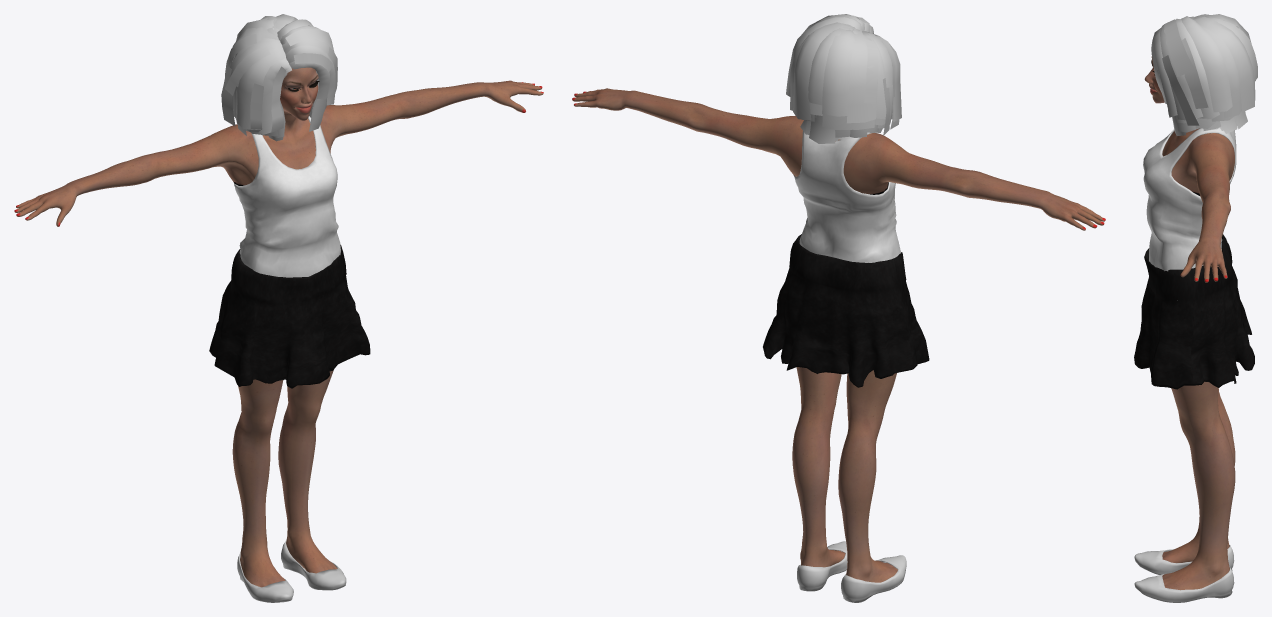
The model's file is bartender-girl.obj.
3 renders of one model, left to right at view 1: azimuth 30°, elevation 25°; view 2: azimuth 150°, elevation 25°; view 3: azimuth 270°, elevation 25°, orthographic.
Parts seen in each view (by area): view 1: Body, Bottoms, Tops, Hair, Shoes; view 2: Body, Bottoms, Hair, Tops, Shoes; view 3: Body, Bottoms, Hair, Tops, Shoes.
Part boxes in pixels (x1=…): Body: x1=14, y1=67, x2=543, y2=587; Bottoms: x1=209, y1=244, x2=370, y2=388; Tops: x1=234, y1=116, x2=340, y2=277; Hair: x1=221, y1=14, x2=337, y2=141; Shoes: x1=237, y1=540, x2=346, y2=602; Body: x1=572, y1=88, x2=1105, y2=582; Bottoms: x1=763, y1=234, x2=929, y2=387; Hair: x1=786, y1=14, x2=901, y2=143; Tops: x1=793, y1=131, x2=900, y2=262; Shoes: x1=797, y1=541, x2=906, y2=602; Body: x1=1144, y1=56, x2=1235, y2=590; Bottoms: x1=1134, y1=234, x2=1254, y2=389; Hair: x1=1151, y1=14, x2=1257, y2=135; Tops: x1=1143, y1=128, x2=1236, y2=300; Shoes: x1=1134, y1=545, x2=1234, y2=602.
Size of the model in its own units: 179 by 182 by 36.16.
